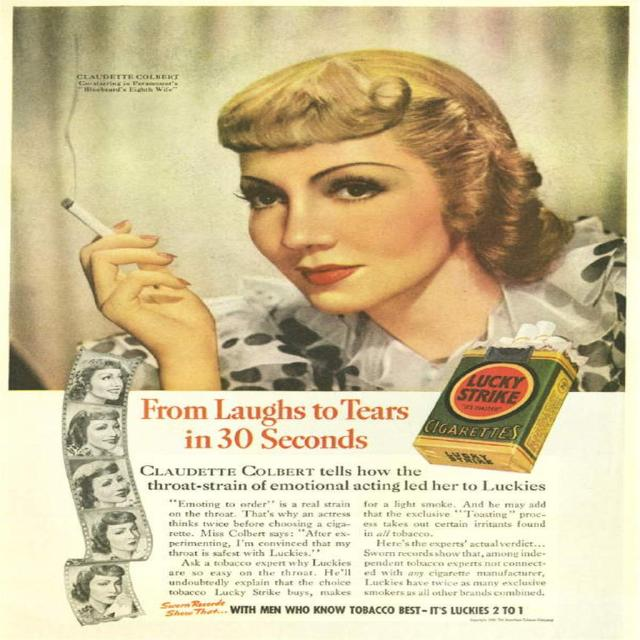smoking: (35, 29, 611, 344)
